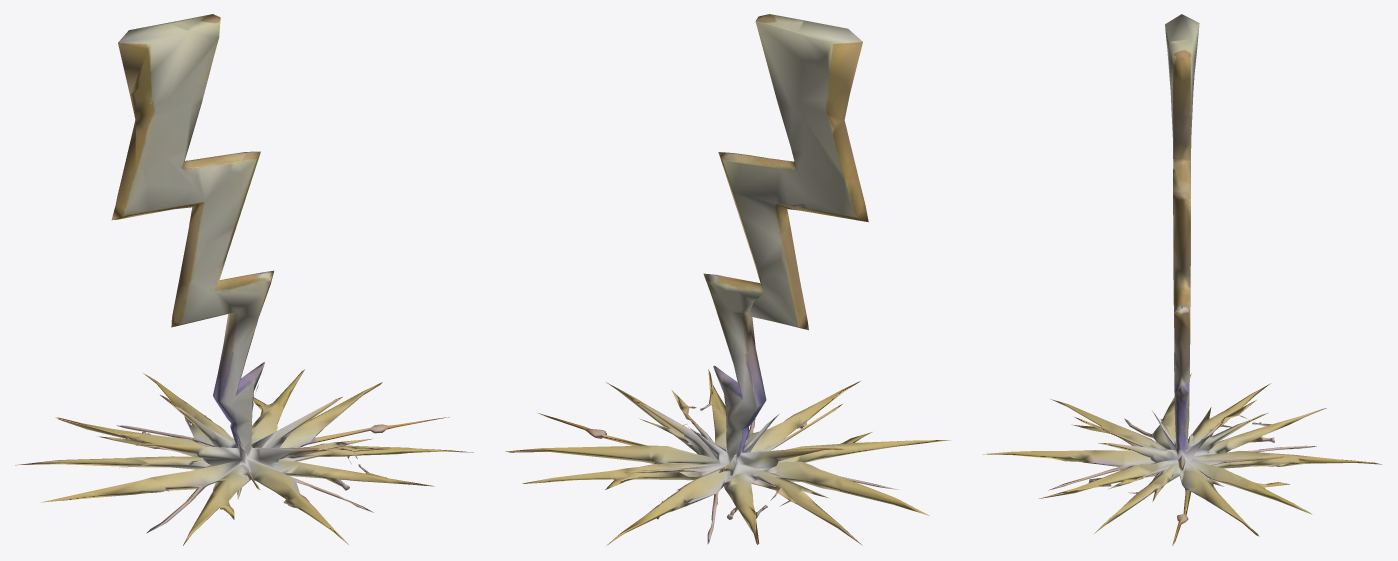
Rendered from thunder_z.glb.
The picture shows the model from 3 angles, left to right: view 1: azimuth 30°, elevation 25°; view 2: azimuth 150°, elevation 25°; view 3: azimuth 270°, elevation 25°; orthographic projection. The views are drawn at different scales.
Parts seen in each view (by area): view 1: tripo_node_45f25fbe-f95e-493b-9981-e7da06919431; view 2: tripo_node_45f25fbe-f95e-493b-9981-e7da06919431; view 3: tripo_node_45f25fbe-f95e-493b-9981-e7da06919431.
Boxes of the visible parts, x1,y1,x2,y2 form: tripo_node_45f25fbe-f95e-493b-9981-e7da06919431: (15, 14, 473, 545); tripo_node_45f25fbe-f95e-493b-9981-e7da06919431: (505, 14, 950, 545); tripo_node_45f25fbe-f95e-493b-9981-e7da06919431: (983, 14, 1382, 545).
Size of the model in its own units: 0.8621 by 0.9574 by 0.8599.
Materials: 1 (1 with a texture image).
